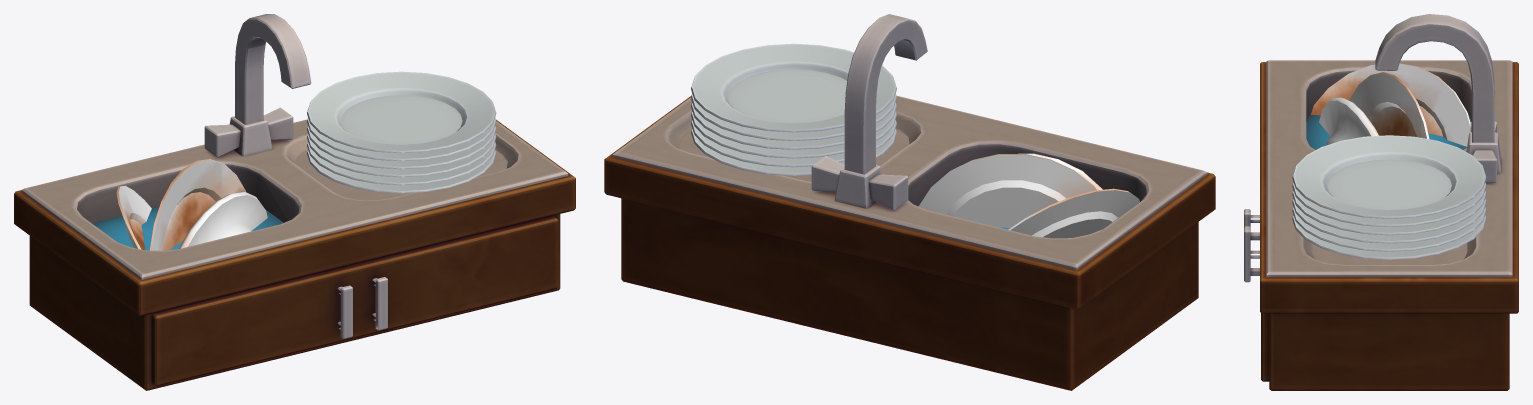
The model's file is washSink.glb.
3 views of the same model, side by side, from view 1: azimuth 30°, elevation 25°; view 2: azimuth 150°, elevation 25°; view 3: azimuth 270°, elevation 25° (orthographic). The views are drawn at different scales.
Visible parts, largest first — view 1: washSink, group6, dirtyPlate1, dirtyPlate2, group1, group2, group4, group3, group5, water, dirtyPlate3; view 2: washSink, group6, dirtyPlate1, dirtyPlate3, group3, group4, group5, group2, group1; view 3: washSink, group6, dirtyPlate3, dirtyPlate1, dirtyPlate2, group2, group5, group1, group3, group4, water.
Boxes of the visible parts, bbox=[...] form: washSink: bbox=[14, 14, 575, 390]; group6: bbox=[307, 71, 496, 153]; dirtyPlate1: bbox=[150, 159, 245, 250]; dirtyPlate2: bbox=[179, 192, 267, 248]; group1: bbox=[307, 149, 496, 193]; group2: bbox=[307, 141, 496, 185]; group4: bbox=[307, 125, 496, 169]; group3: bbox=[307, 133, 496, 177]; group5: bbox=[307, 117, 496, 161]; water: bbox=[93, 206, 283, 250]; dirtyPlate3: bbox=[116, 185, 151, 250]; washSink: bbox=[604, 14, 1215, 390]; group6: bbox=[691, 43, 896, 132]; dirtyPlate1: bbox=[918, 154, 1096, 227]; dirtyPlate3: bbox=[1008, 188, 1139, 238]; group3: bbox=[691, 111, 896, 158]; group4: bbox=[691, 102, 896, 149]; group5: bbox=[691, 94, 896, 140]; group2: bbox=[691, 120, 896, 167]; group1: bbox=[691, 128, 896, 175]; washSink: bbox=[1244, 14, 1518, 390]; group6: bbox=[1292, 135, 1486, 218]; dirtyPlate3: bbox=[1311, 63, 1470, 146]; dirtyPlate1: bbox=[1349, 72, 1429, 138]; dirtyPlate2: bbox=[1319, 97, 1378, 145]; group2: bbox=[1292, 207, 1486, 251]; group5: bbox=[1292, 182, 1486, 226]; group1: bbox=[1292, 215, 1486, 259]; group3: bbox=[1292, 199, 1486, 243]; group4: bbox=[1292, 190, 1486, 235]; water: bbox=[1306, 114, 1471, 149].
Size of the model in its own units: 4 by 2.3 by 2.12.
Materials: 4 (4 with a texture image).
